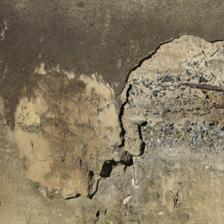Crack: (20, 18, 132, 120), (75, 53, 137, 117), (31, 37, 117, 59)
